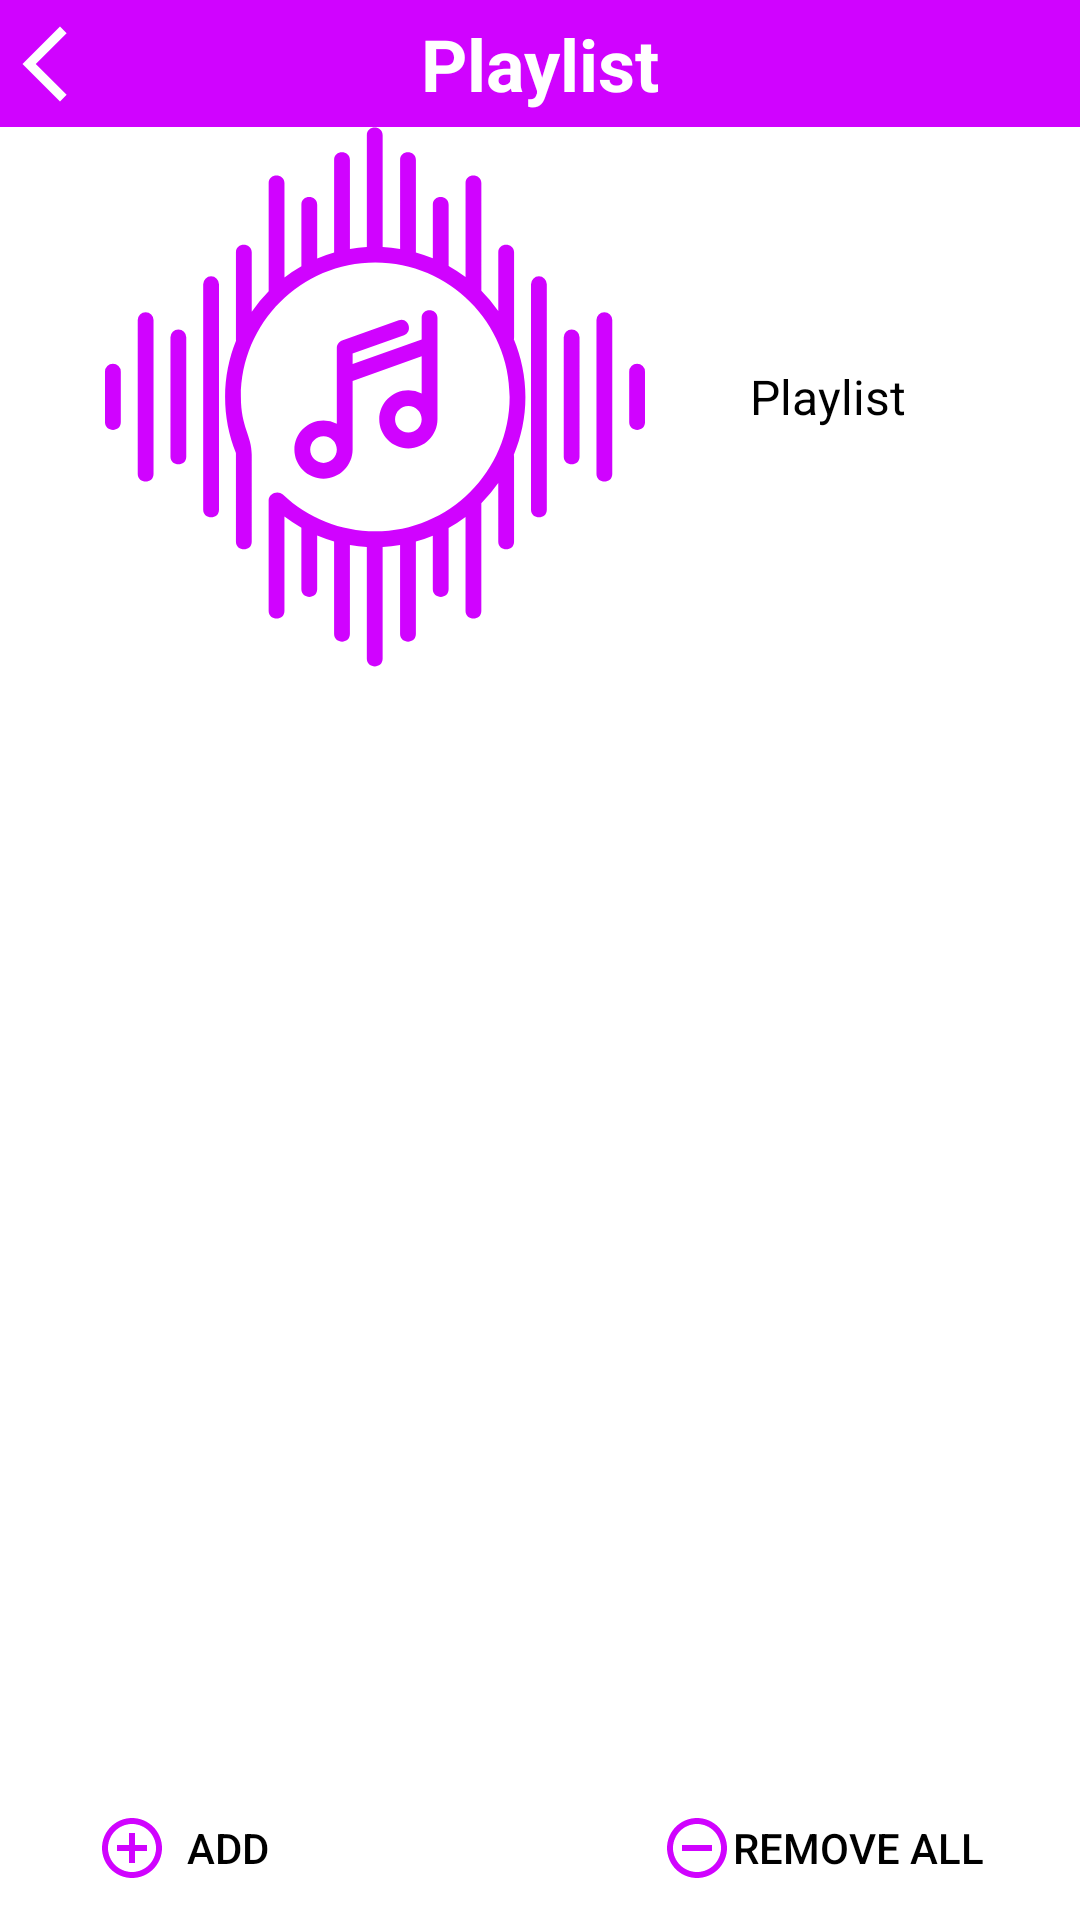

Locate icon controls on the screen. Image size 1080×1920, boxes as (x1, y1, x2, y2).
back arrow: (22, 26, 67, 102)
